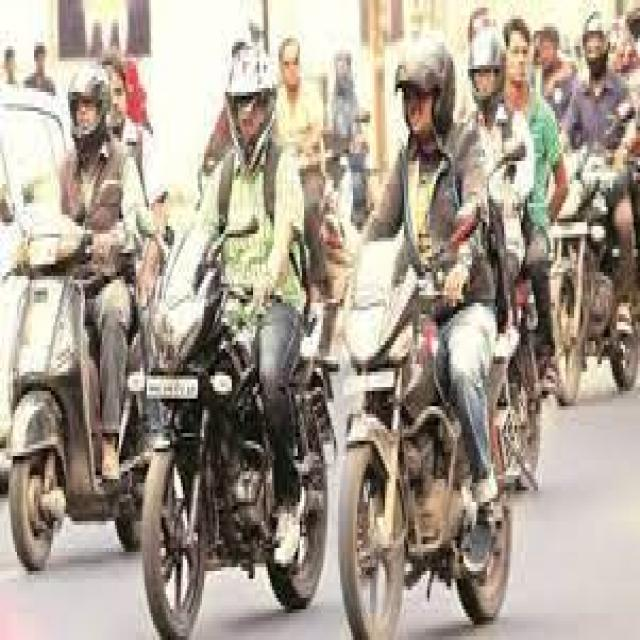Numberplate: (147, 377, 200, 400)
bike: (126, 199, 323, 619), (340, 237, 530, 640), (5, 168, 103, 586)
helmet: (395, 48, 454, 150), (226, 51, 272, 171), (63, 68, 116, 146)
